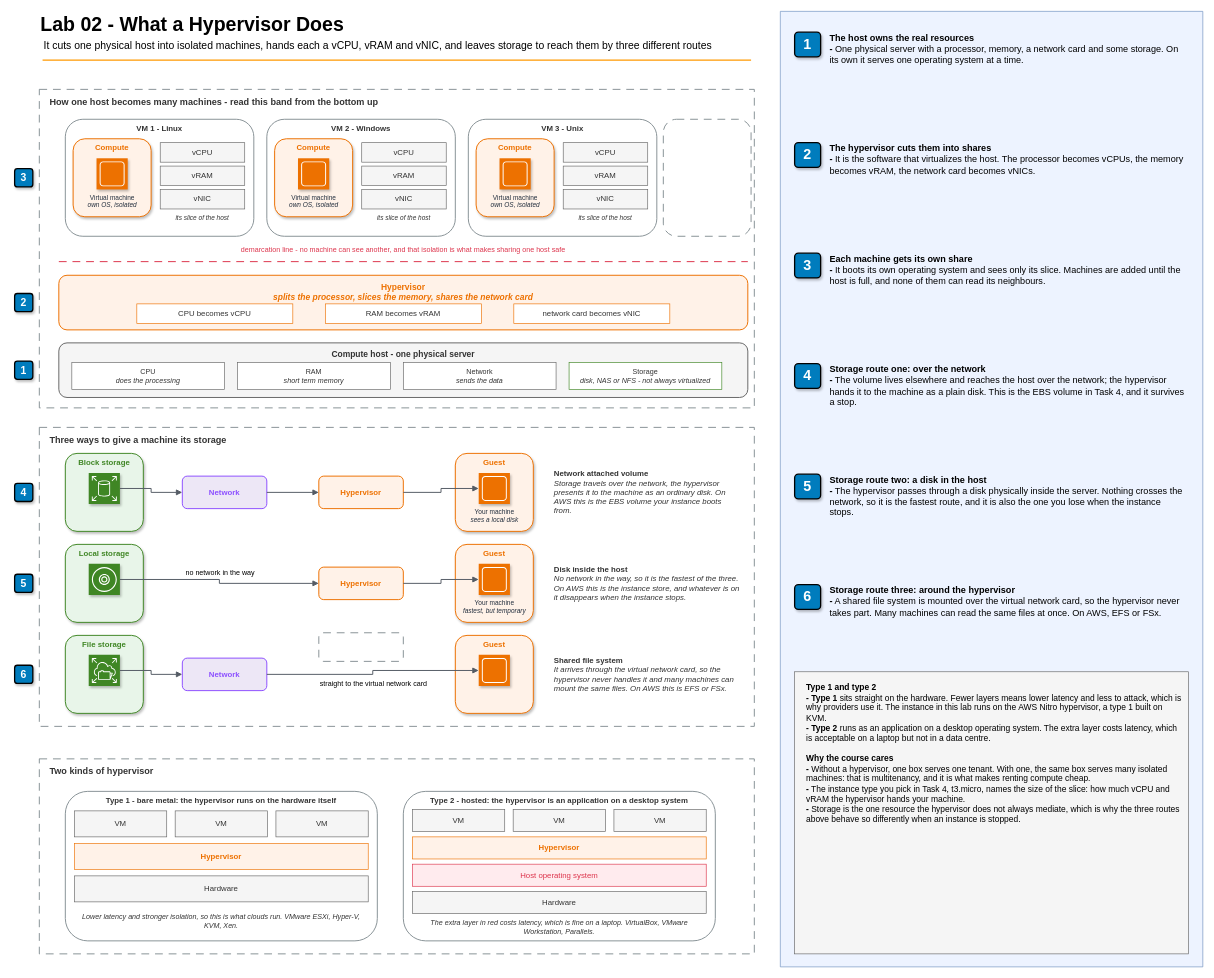
Some shapes in this 1214 by 978 pixel diagram are drawn without their labels. Here are the shapes that lost their labels. From the top down, the centre of each, then its label:
At point 707,177: "VM 4 ... VM n added until the host is full".
At point 104,489: "EBS volume network attached".
At point 104,580: "Instance store disk inside the host".
At point 361,647: "Hypervisor not involved".
At point 104,671: "EFS or FSx shared file system".
At point 494,671: "Your machine mounts it over the vNIC".
